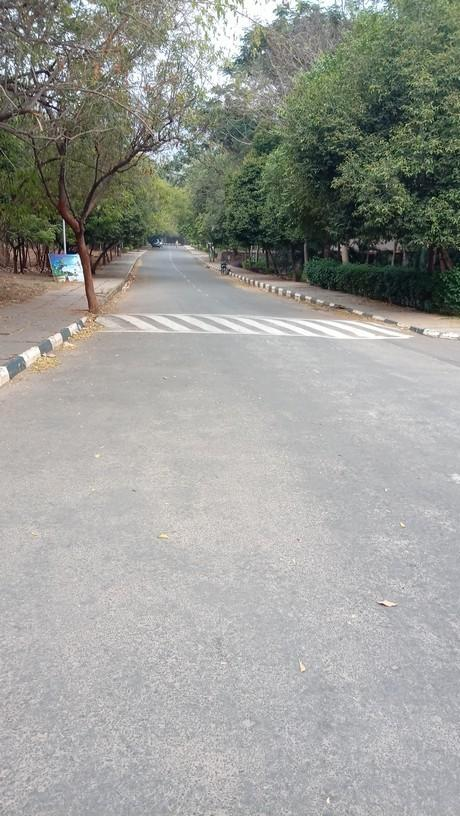speed-bump: (89, 312, 417, 335)
